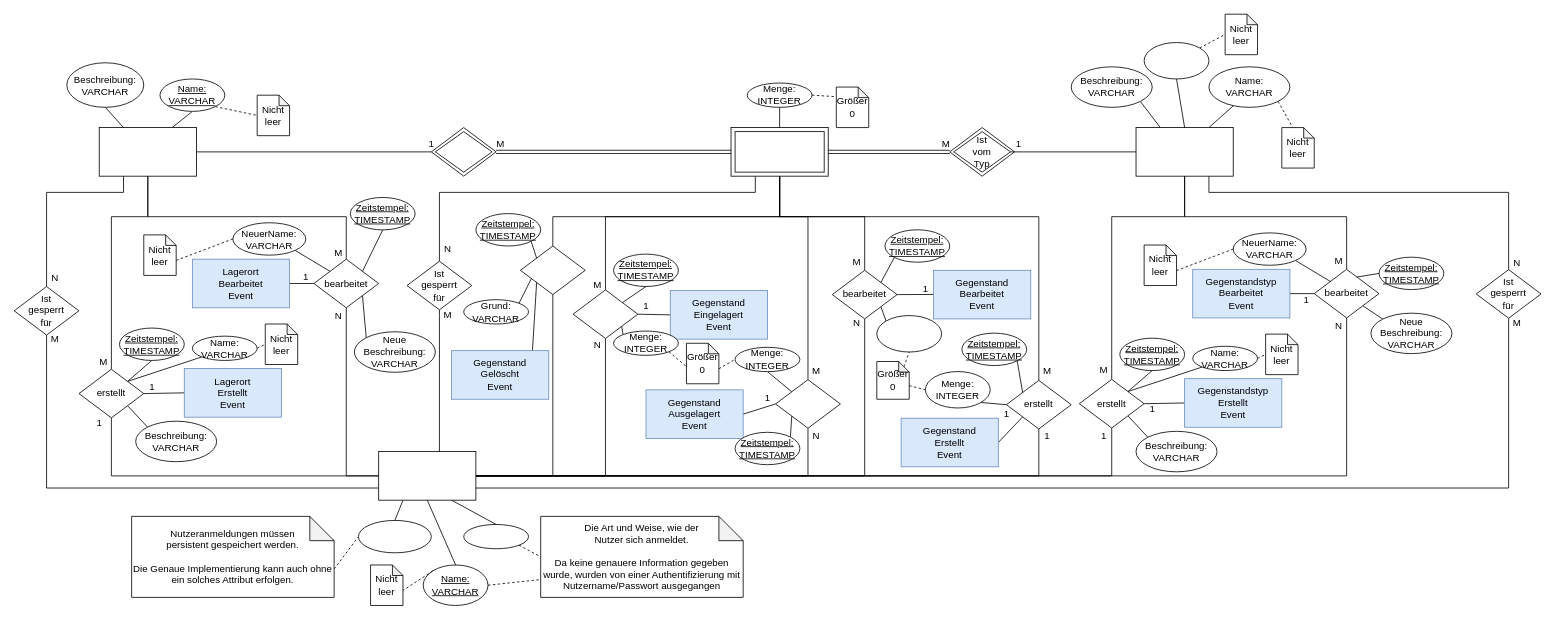
Image size: 1555x620. Some labels were removed from this diagram. The shapes that lost their labels are listed below. From the top down, each one's centre as x and y in pixels, then its label:
(x=1176, y=60): ID: INTEGER
(x=147, y=151): Lagerort
(x=463, y=151): Liegt an
(x=779, y=151): Gegenstand
(x=1184, y=151): Gegenstandstyp
(x=552, y=270): löscht
(x=605, y=313): lagert ein
(x=909, y=333): Neue Menge: INTEGER
(x=807, y=403): lagert aus
(x=427, y=475): Nutzer
(x=394, y=536): Session-Token
(x=496, y=536): Passwort-Hash
